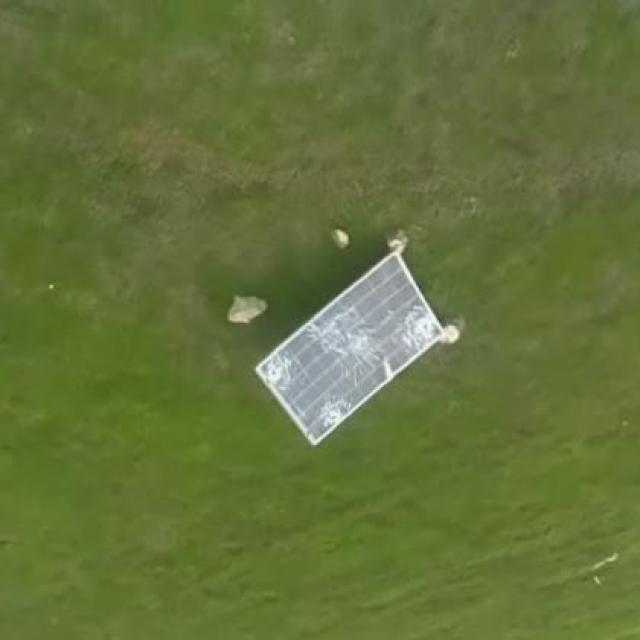cracked: (253, 253, 457, 448)
